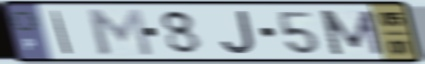5: (274, 9, 324, 55)
8: (159, 9, 206, 56)
I: (50, 9, 75, 56)
J: (219, 9, 259, 57)
M: (83, 7, 157, 58), (316, 8, 387, 57)
